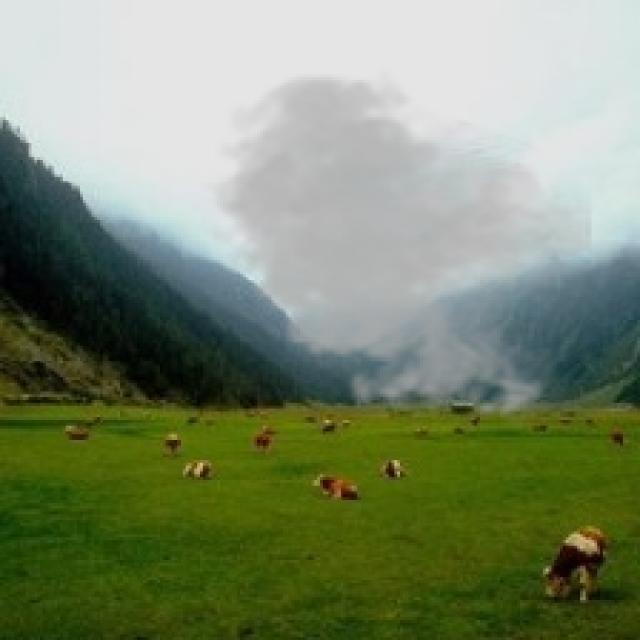Smoke: (199, 66, 592, 428)
